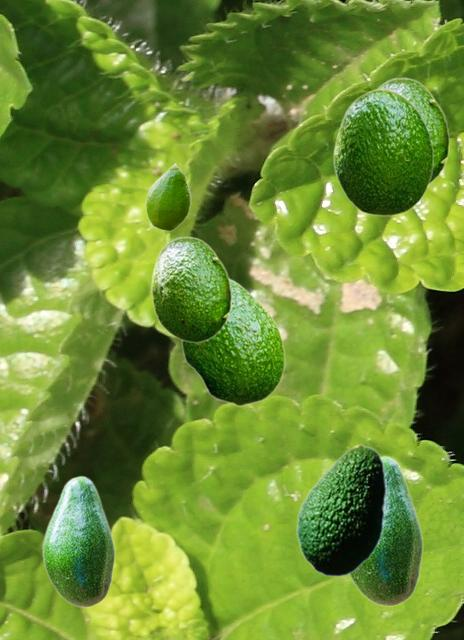avocado: (180, 276, 284, 405), (333, 88, 433, 215), (296, 444, 385, 576), (349, 455, 422, 606), (41, 475, 114, 607), (150, 236, 231, 342), (377, 77, 449, 184), (145, 162, 190, 230)
